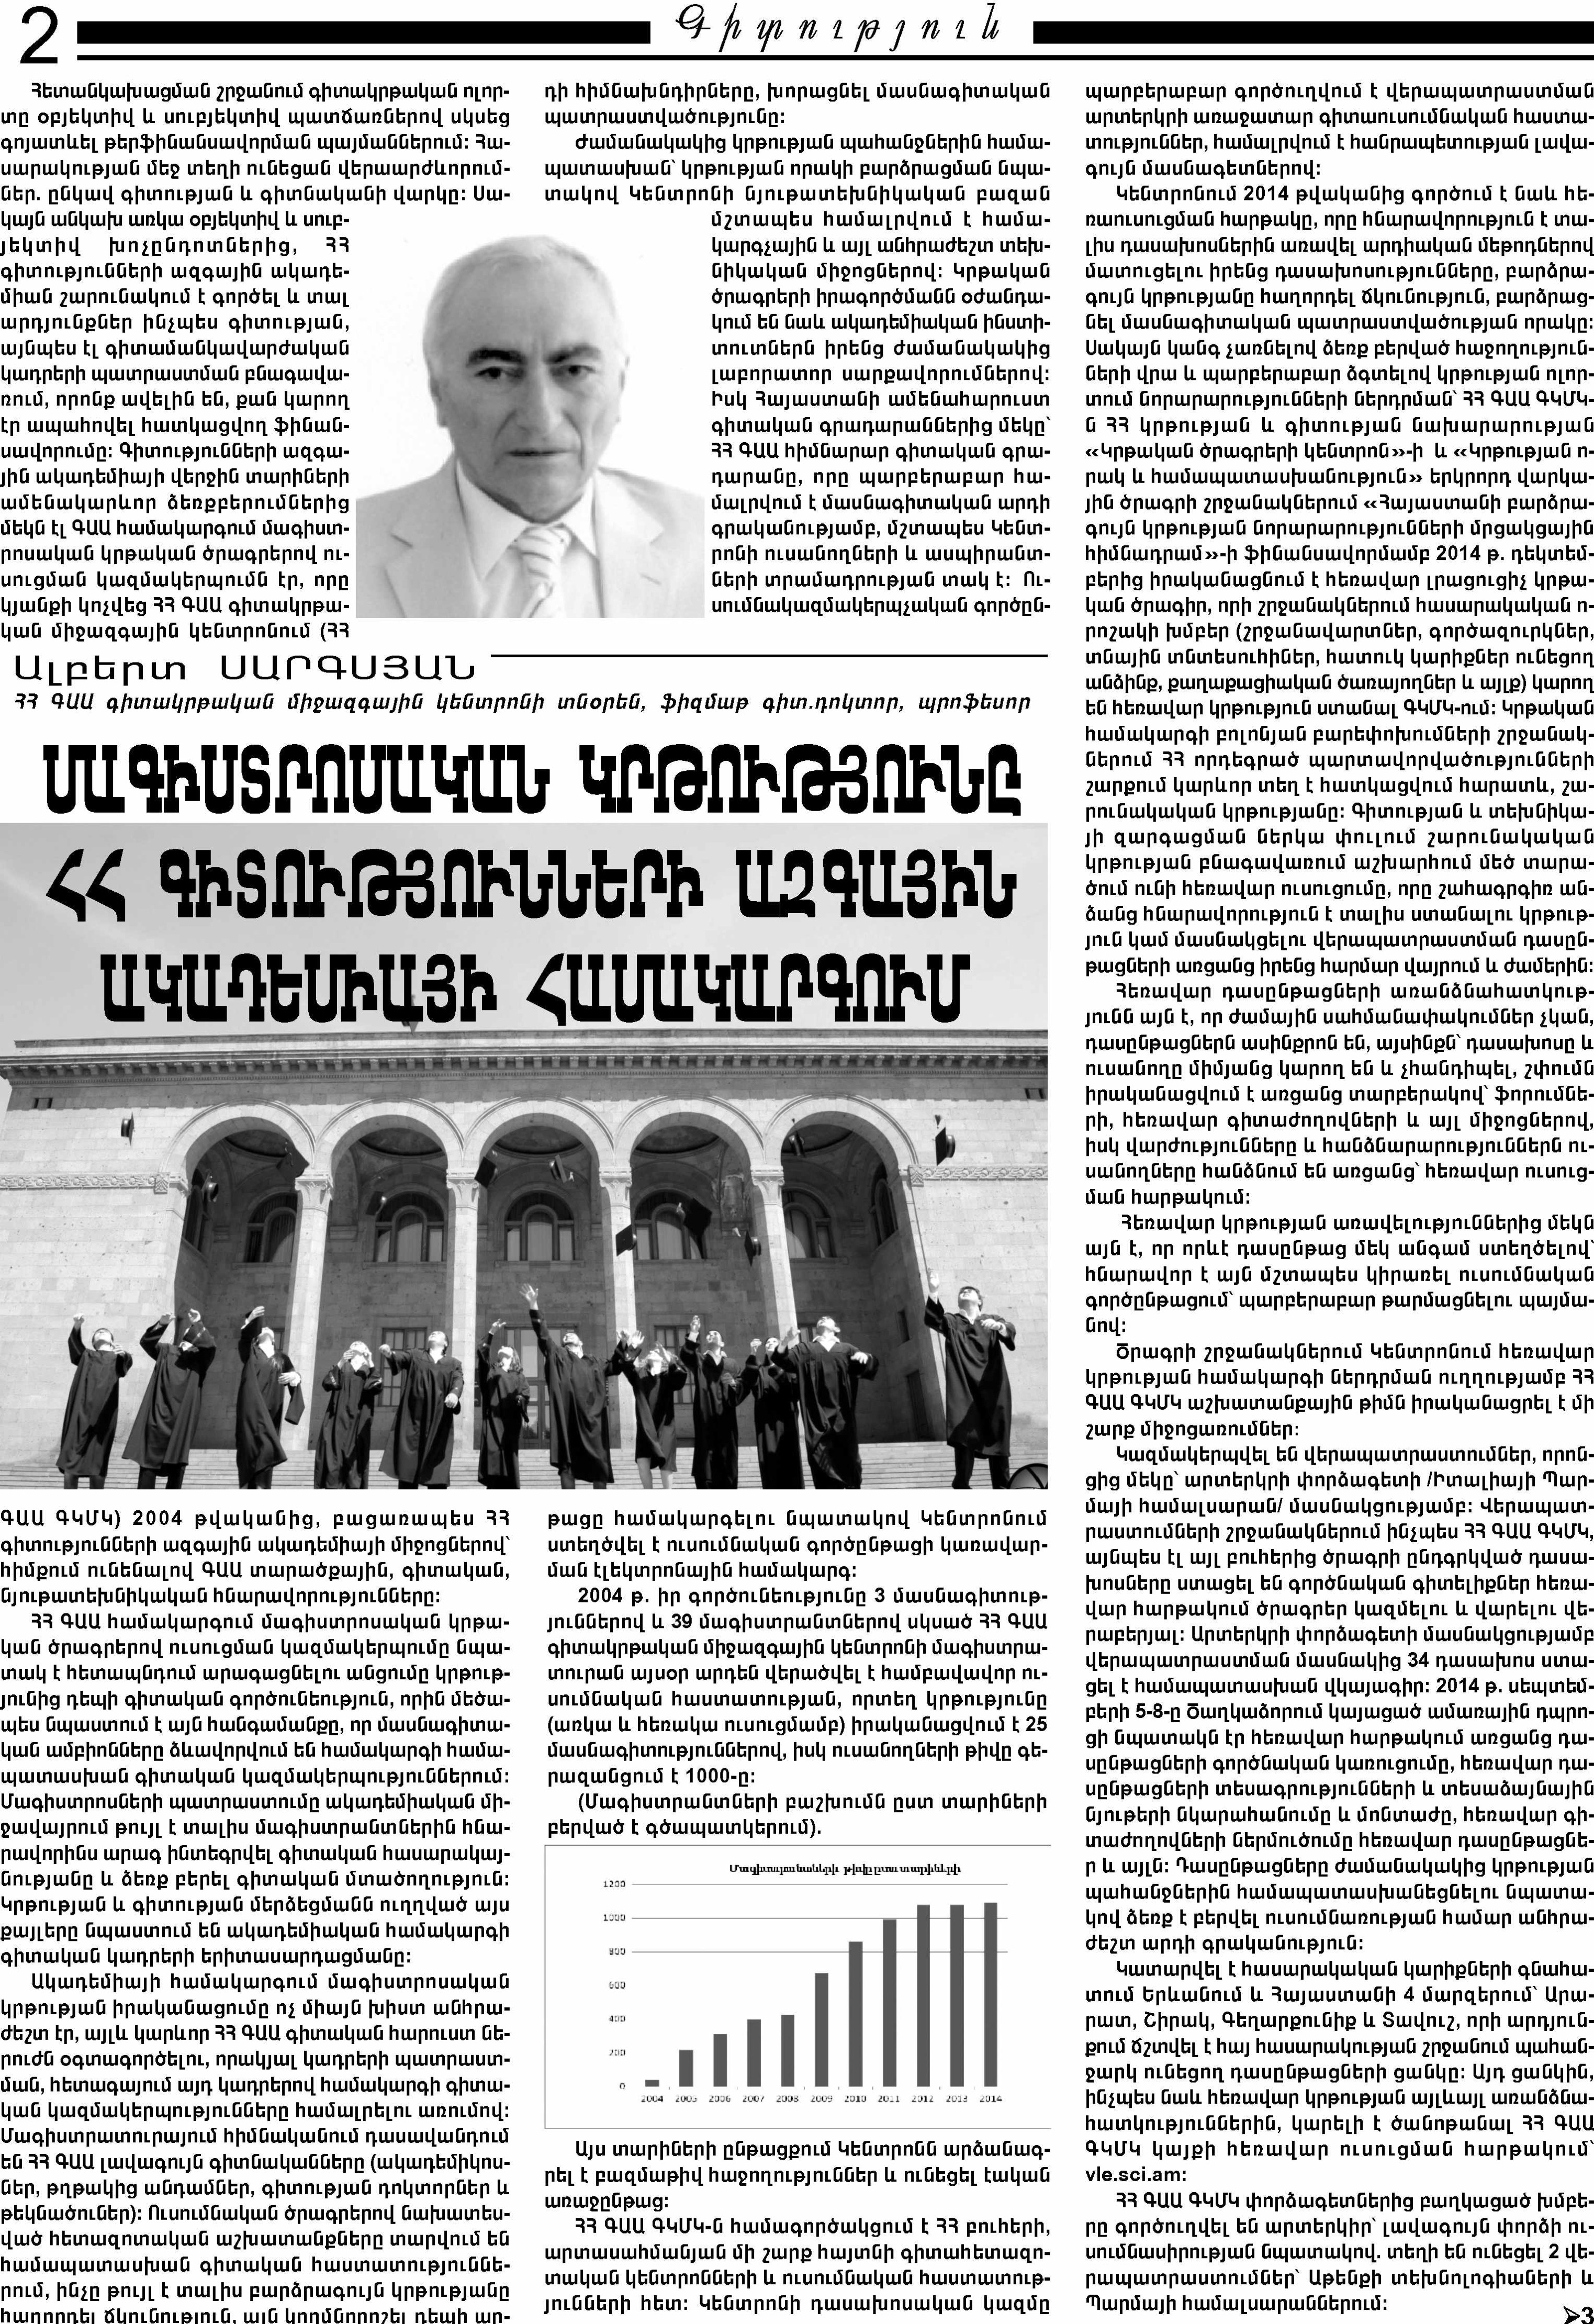person: (347, 200, 716, 622)
